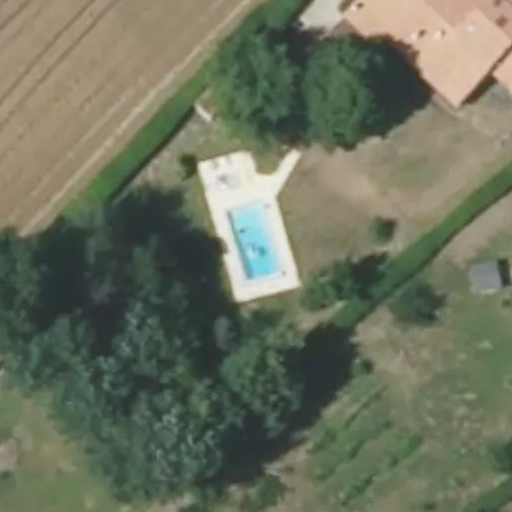pool: (229, 210, 283, 273)
